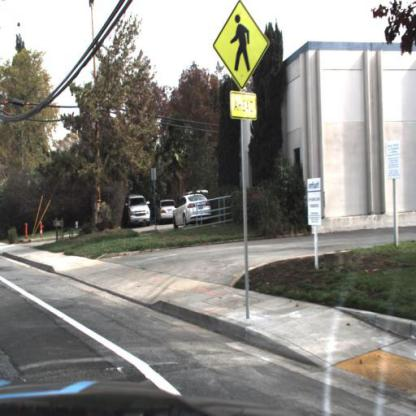car: (171, 194, 213, 230), (172, 195, 209, 227), (124, 192, 152, 230), (157, 195, 177, 225)
